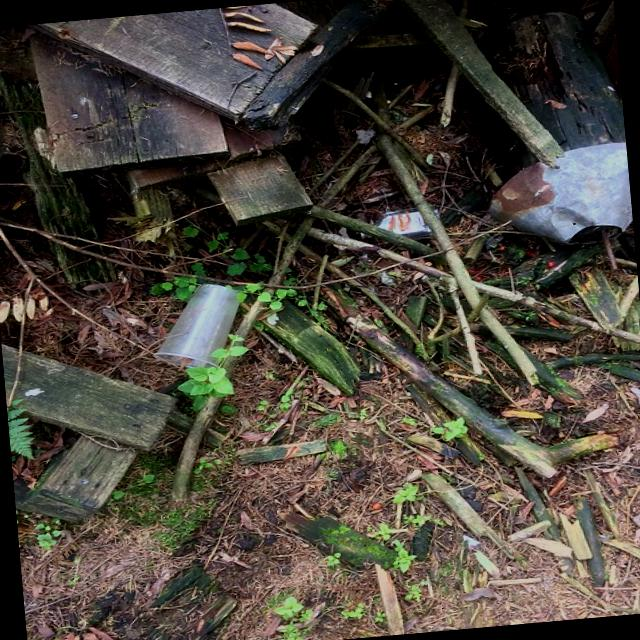Recycle: (481, 140, 634, 254), (148, 280, 247, 376), (354, 207, 444, 242)
